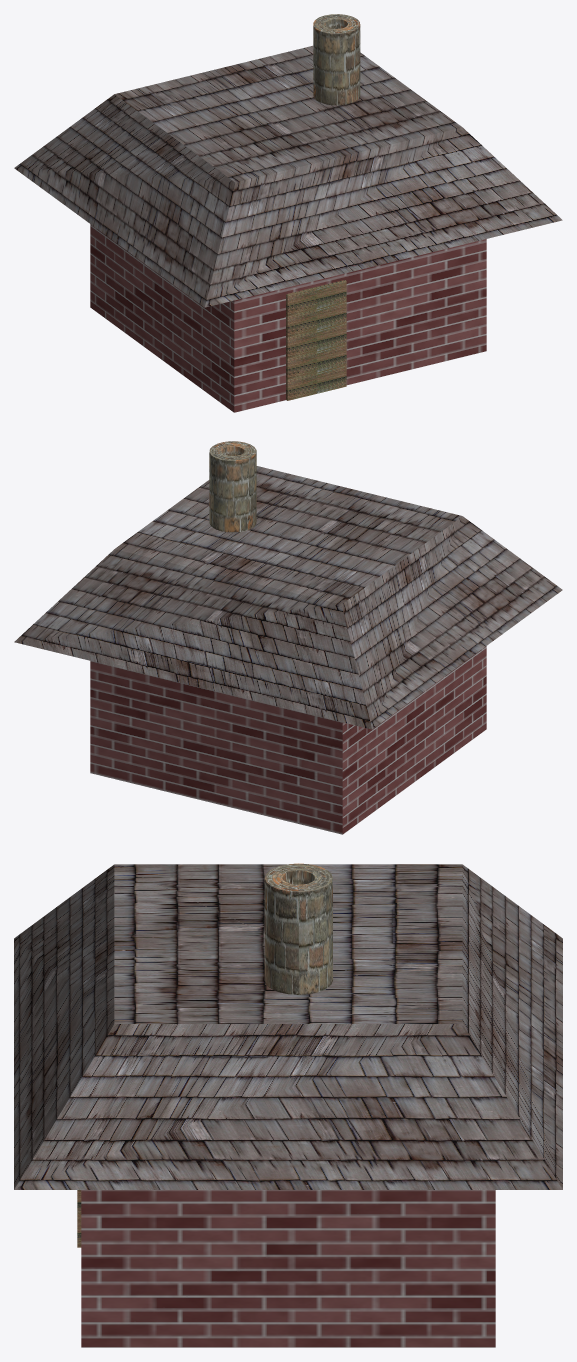
File: Cottage.fbx
3 renders of one model, top to bottom at view 1: azimuth 30°, elevation 25°; view 2: azimuth 150°, elevation 25°; view 3: azimuth 270°, elevation 25°, orthographic. The views are drawn at different scales.
Parts seen in each view (by area): view 1: pCube2, pCube1, pCube3, pPipe1; view 2: pCube2, pCube1, pPipe1; view 3: pCube2, pCube1, pPipe1.
Boxes of the visible parts, bbox=[...] form: pCube2: bbox=[14, 45, 562, 307]; pCube1: bbox=[90, 224, 486, 412]; pCube3: bbox=[286, 280, 346, 400]; pPipe1: bbox=[313, 14, 360, 105]; pCube2: bbox=[14, 466, 562, 729]; pCube1: bbox=[90, 646, 486, 834]; pPipe1: bbox=[209, 441, 256, 532]; pCube2: bbox=[14, 864, 562, 1189]; pCube1: bbox=[81, 1190, 495, 1347]; pPipe1: bbox=[264, 863, 332, 994].
Size of the model in its own units: 16.88 by 13.06 by 15.57.
